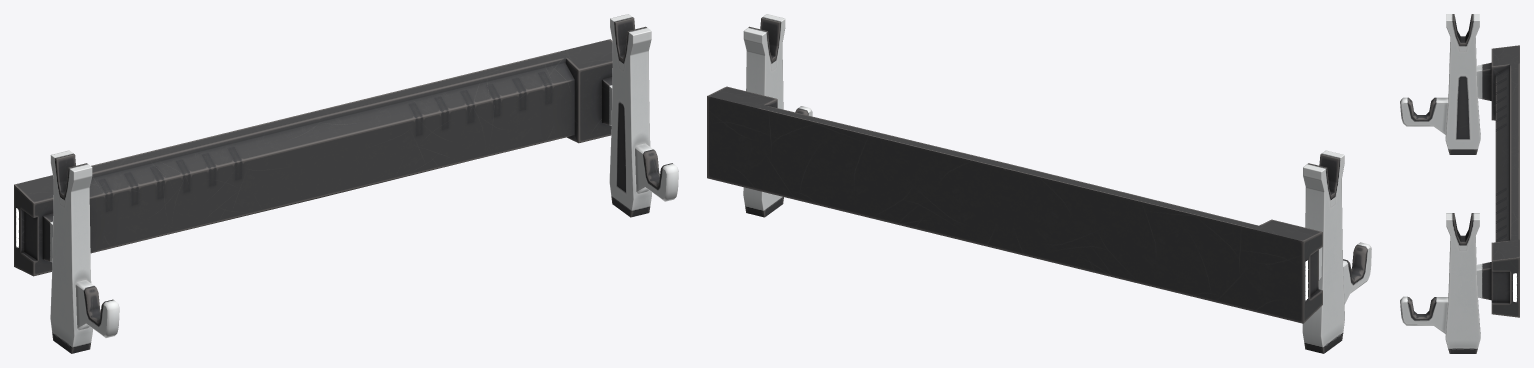
Rendered from MeleeKatana01_5.FBX.
3 views of the same model, side by side, from view 1: azimuth 30°, elevation 25°; view 2: azimuth 150°, elevation 25°; view 3: azimuth 270°, elevation 25° (orthographic). The views are drawn at different scales.
Parts seen in each view (by area): view 1: MeleeKatana01_5; view 2: MeleeKatana01_5; view 3: MeleeKatana01_5.
Part boxes in pixels (x1=…): MeleeKatana01_5: x1=14, y1=14, x2=678, y2=353; MeleeKatana01_5: x1=707, y1=14, x2=1371, y2=353; MeleeKatana01_5: x1=1400, y1=14, x2=1519, y2=353.
Size of what is drawn, in the model's own units: 0.8103 by 0.2387 by 0.193.
